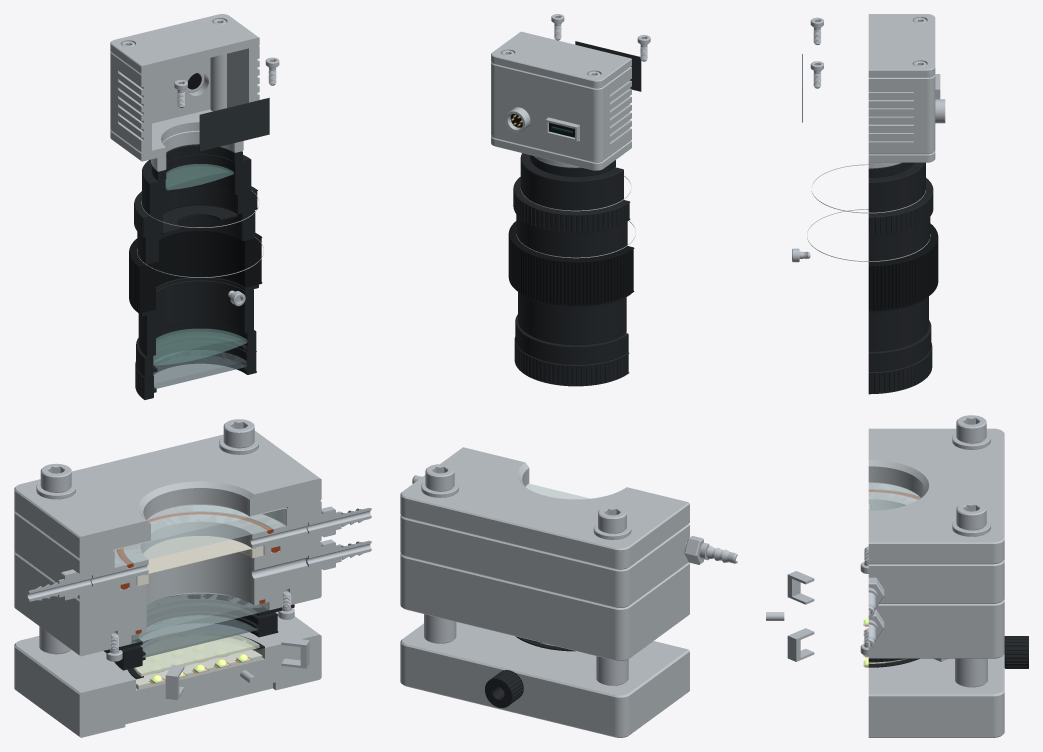
File: fouling_cell_cutaway.glb
3 renders of one model, left to right at view 1: azimuth 30°, elevation 25°; view 2: azimuth 150°, elevation 25°; view 3: azimuth 270°, elevation 25°, orthographic. The views are drawn at different scales.
Visible parts, largest first — view 1: 03_window_retainer, 11_led_heat_sink, 02_filtrate_chamber, 01_flow_chamber, 22_camera_housing, 19_focus_ring, 04_upper_quartz_window, 23_camera_rear_cover, lens_forward_barrel, lens_rear_barrel, 09_lower_quartz_window, 15_diffuser (+23 smaller); view 2: 11_led_heat_sink, 03_window_retainer, 02_filtrate_chamber, 01_flow_chamber, 22_camera_housing, 19_focus_ring, 23_camera_rear_cover, lens_forward_barrel, lens_rear_barrel, lens_scale_barrel, 20_aperture_ring, 16_analyser_rotation_ring (+10 smaller); view 3: 03_window_retainer, 11_led_heat_sink, 02_filtrate_chamber, 01_flow_chamber, 22_camera_housing, 23_camera_rear_cover, 19_focus_ring, lens_forward_barrel, lens_rear_barrel, 20_aperture_ring, lens_scale_barrel, 16_analyser_rotation_ring (+10 smaller).
Boxes of the visible parts, x1,y1,x2,y2 form: 03_window_retainer: (14, 431, 321, 559); 11_led_heat_sink: (14, 611, 321, 737); 02_filtrate_chamber: (14, 542, 321, 656); 01_flow_chamber: (14, 501, 321, 599); 22_camera_housing: (110, 46, 259, 152); 19_focus_ring: (129, 231, 262, 313); 04_upper_quartz_window: (113, 505, 285, 567); 23_camera_rear_cover: (110, 14, 259, 74); lens_forward_barrel: (138, 280, 253, 357); lens_rear_barrel: (142, 154, 251, 215); 09_lower_quartz_window: (131, 592, 268, 643); 15_diffuser: (134, 631, 259, 676); 11_led_heat_sink: (400, 622, 689, 737); 03_window_retainer: (400, 447, 689, 569); 02_filtrate_chamber: (400, 553, 689, 661); 01_flow_chamber: (400, 515, 689, 607); 22_camera_housing: (491, 62, 631, 162); 19_focus_ring: (508, 221, 634, 305); 23_camera_rear_cover: (491, 31, 631, 88); lens_forward_barrel: (518, 292, 626, 345); lens_rear_barrel: (520, 153, 623, 211); lens_scale_barrel: (516, 214, 627, 258); 20_aperture_ring: (513, 177, 630, 232); 16_analyser_rotation_ring: (514, 337, 629, 386); 03_window_retainer: (868, 428, 1004, 564); 11_led_heat_sink: (868, 654, 1004, 737); 02_filtrate_chamber: (868, 599, 1004, 658); 01_flow_chamber: (868, 482, 1004, 603); 22_camera_housing: (868, 74, 935, 154); 23_camera_rear_cover: (868, 14, 935, 77); 19_focus_ring: (868, 223, 938, 311); lens_forward_barrel: (868, 296, 928, 351); lens_rear_barrel: (868, 162, 925, 213); 20_aperture_ring: (868, 178, 933, 235); lens_scale_barrel: (868, 217, 930, 261); 16_analyser_rotation_ring: (868, 342, 932, 394).
Bounding box in the file's own units: 0.1274 × 0.2335 × 0.087.
